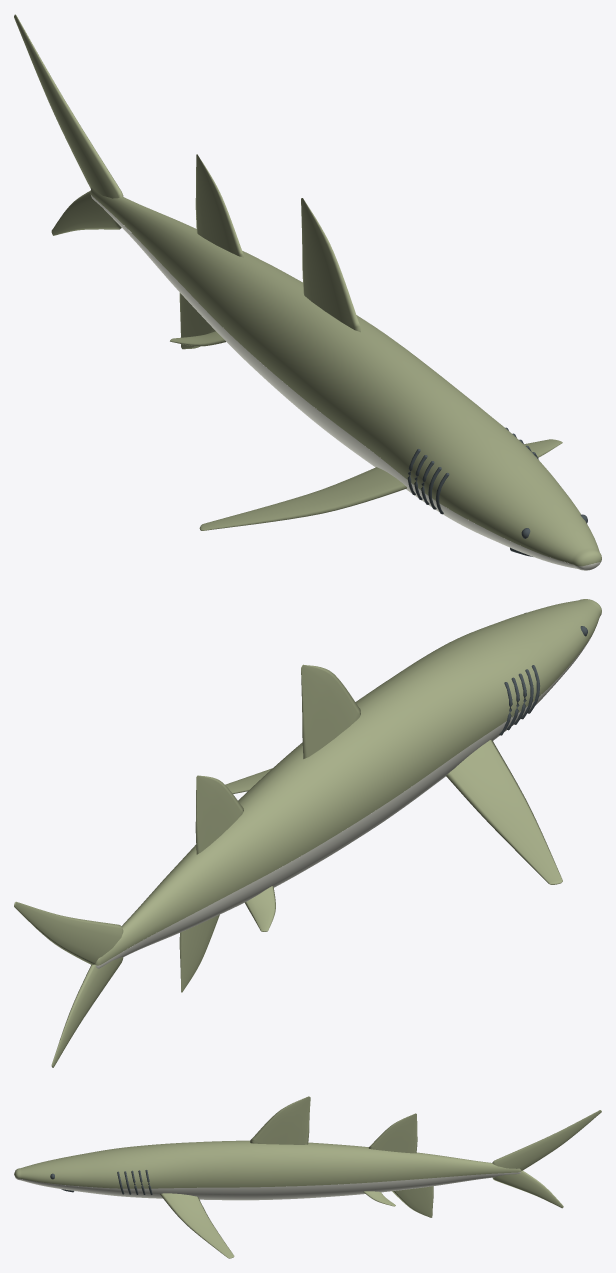
The model's file is snow_bike.glb.
The picture shows the model from 3 angles, top to bottom: view 1: azimuth 30°, elevation 25°; view 2: azimuth 150°, elevation 25°; view 3: azimuth 270°, elevation 25°; orthographic projection. The views are drawn at different scales.
Visible parts, largest first — view 1: lemon-shark; view 2: lemon-shark; view 3: lemon-shark.
Part boxes in pixels (left/top/right/bottom): lemon-shark: left=14, top=14, right=601, bottom=570; lemon-shark: left=14, top=599, right=601, bottom=1067; lemon-shark: left=14, top=1096, right=601, bottom=1258.
Bounding box in the file's own units: 1.08 × 0.6845 × 3.
